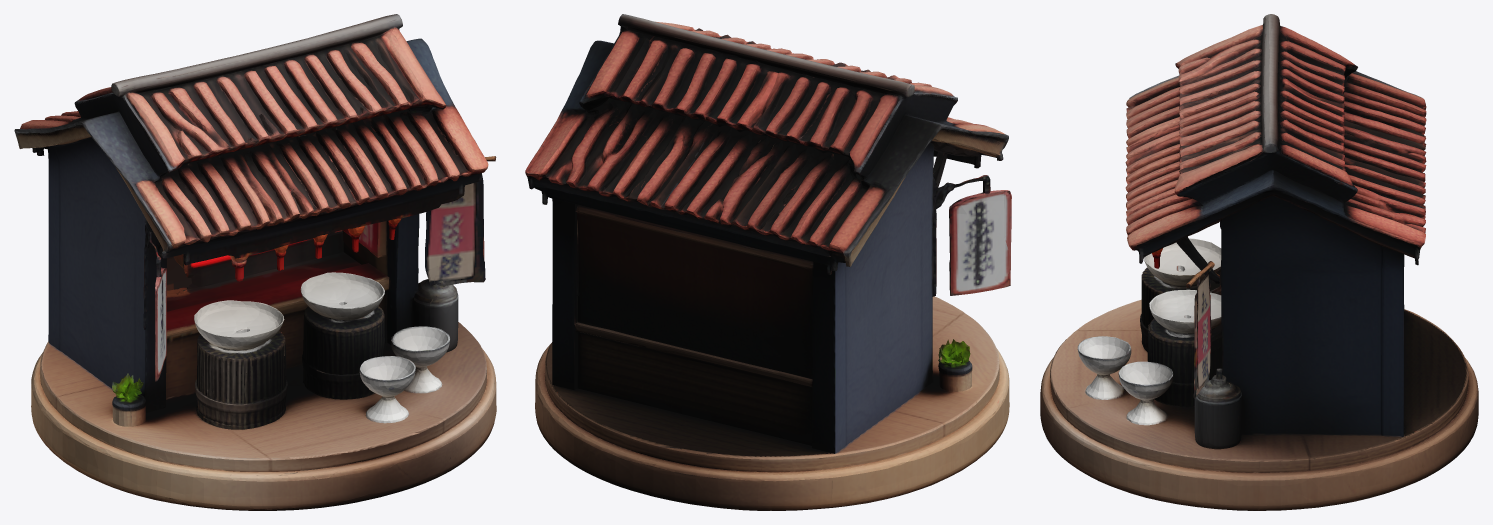
File: ramen_stall.glb
The picture shows the model from 3 angles, left to right: view 1: azimuth 30°, elevation 25°; view 2: azimuth 150°, elevation 25°; view 3: azimuth 270°, elevation 25°; orthographic projection. The views are drawn at different scales.
Parts seen in each view (by area): view 1: world; view 2: world; view 3: world.
Boxes of the visible parts, <box> form: world: <box>14,14,496,510</box>; world: <box>525,14,1011,510</box>; world: <box>1040,14,1478,510</box>.
Size of the model in its own units: 0.9997 by 0.86 by 0.9998.
1 material, 1 textured.
